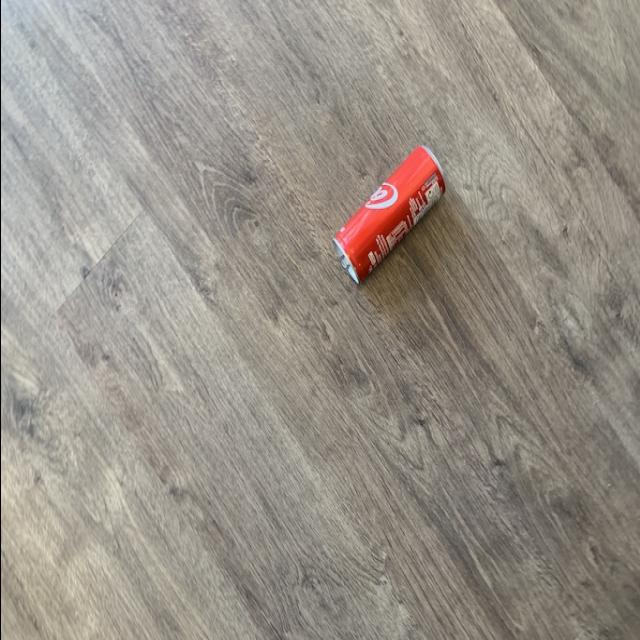Aluminum Can: (322, 96, 456, 318)
